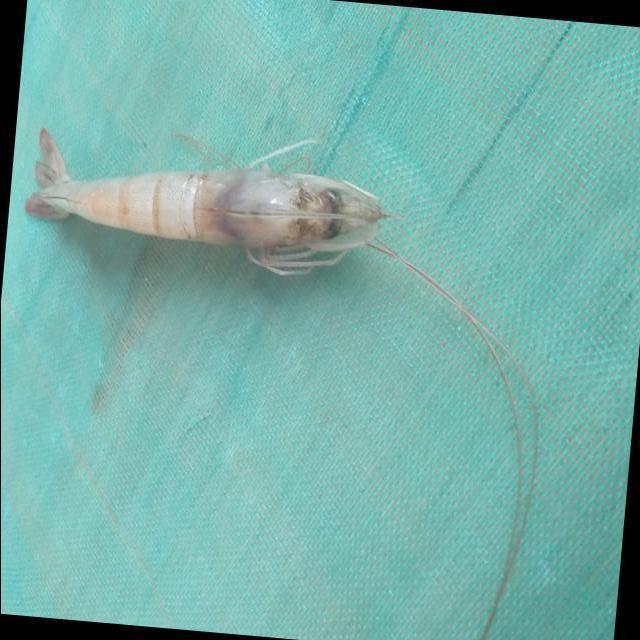shrimp: (24, 128, 384, 272)
